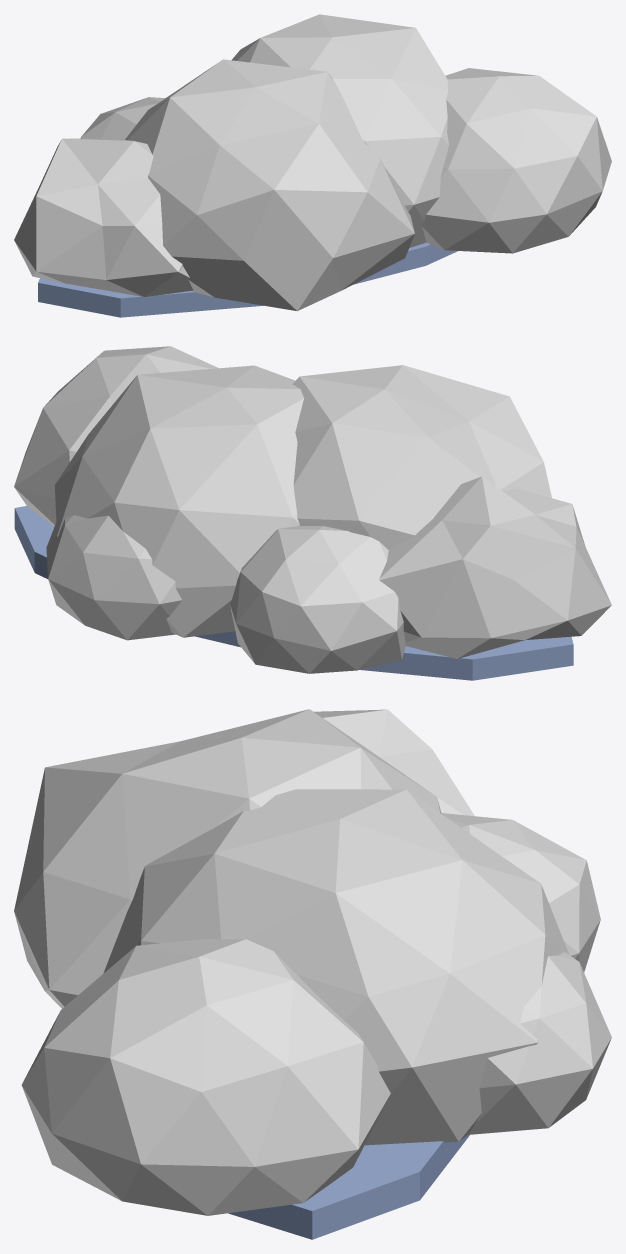
Rendered from CloudB.fbx.
3 renders of one model, top to bottom at view 1: azimuth 30°, elevation 25°; view 2: azimuth 150°, elevation 25°; view 3: azimuth 270°, elevation 25°, orthographic. The views are drawn at different scales.
Visible parts, largest first — view 1: CloudB_Puffs, CloudB_Shade; view 2: CloudB_Puffs, CloudB_Shade; view 3: CloudB_Puffs, CloudB_Shade.
Boxes of the visible parts, x1=… form: CloudB_Puffs: x1=14, y1=14, x2=611, y2=311; CloudB_Shade: x1=38, y1=242, x2=457, y2=317; CloudB_Puffs: x1=14, y1=346, x2=611, y2=673; CloudB_Shade: x1=14, y1=506, x2=573, y2=680; CloudB_Puffs: x1=14, y1=709, x2=611, y2=1215; CloudB_Shade: x1=228, y1=1135, x2=469, y2=1239.
Size of the model in its own units: 207 by 68.22 by 134.
